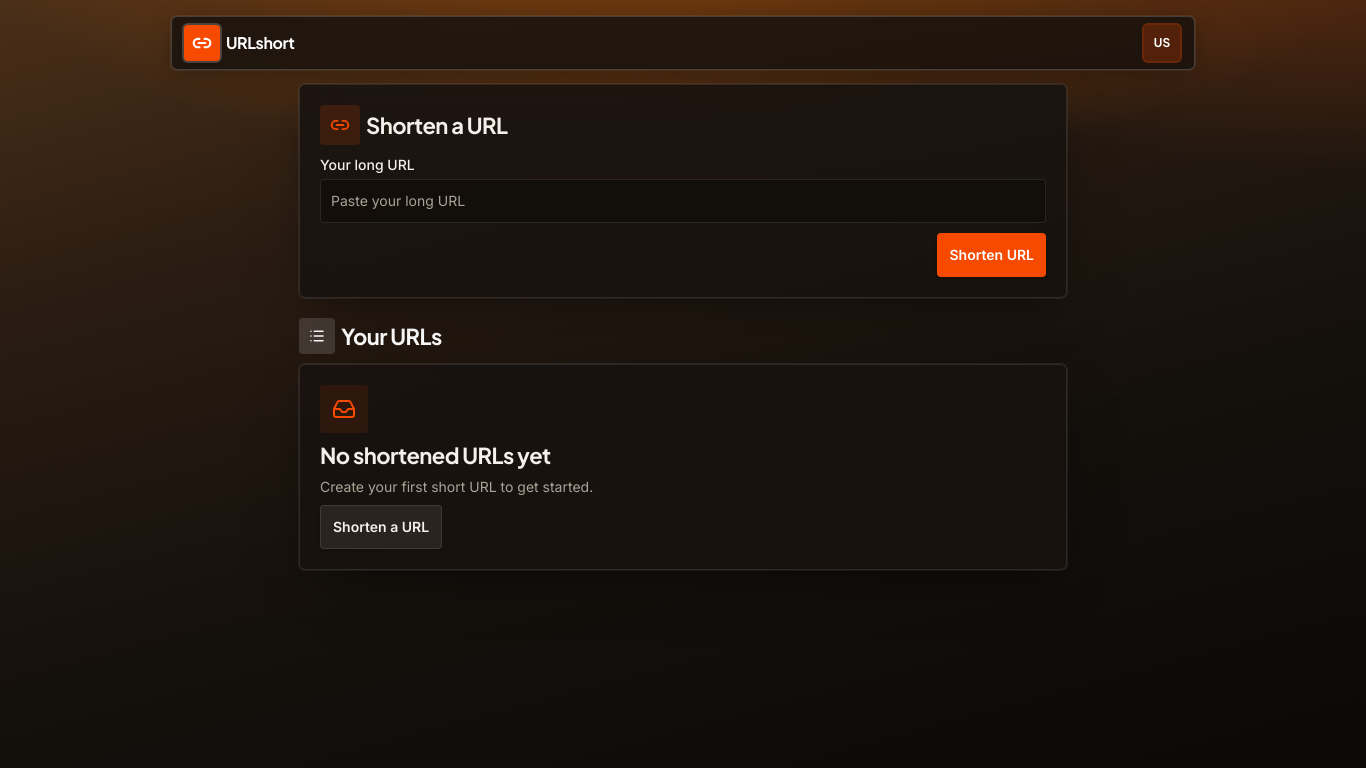
it: authenticated routes › creates and deletes a URL for the signed-in user
This screenshot has width=1366, height=768.
Expected: the text "No shortened URLs yet" is shown, [320,441,551,469]
Step 1. Type "https://example.com" into the field labelled "Your long URL" → (683, 201), box [320,179,1046,223]
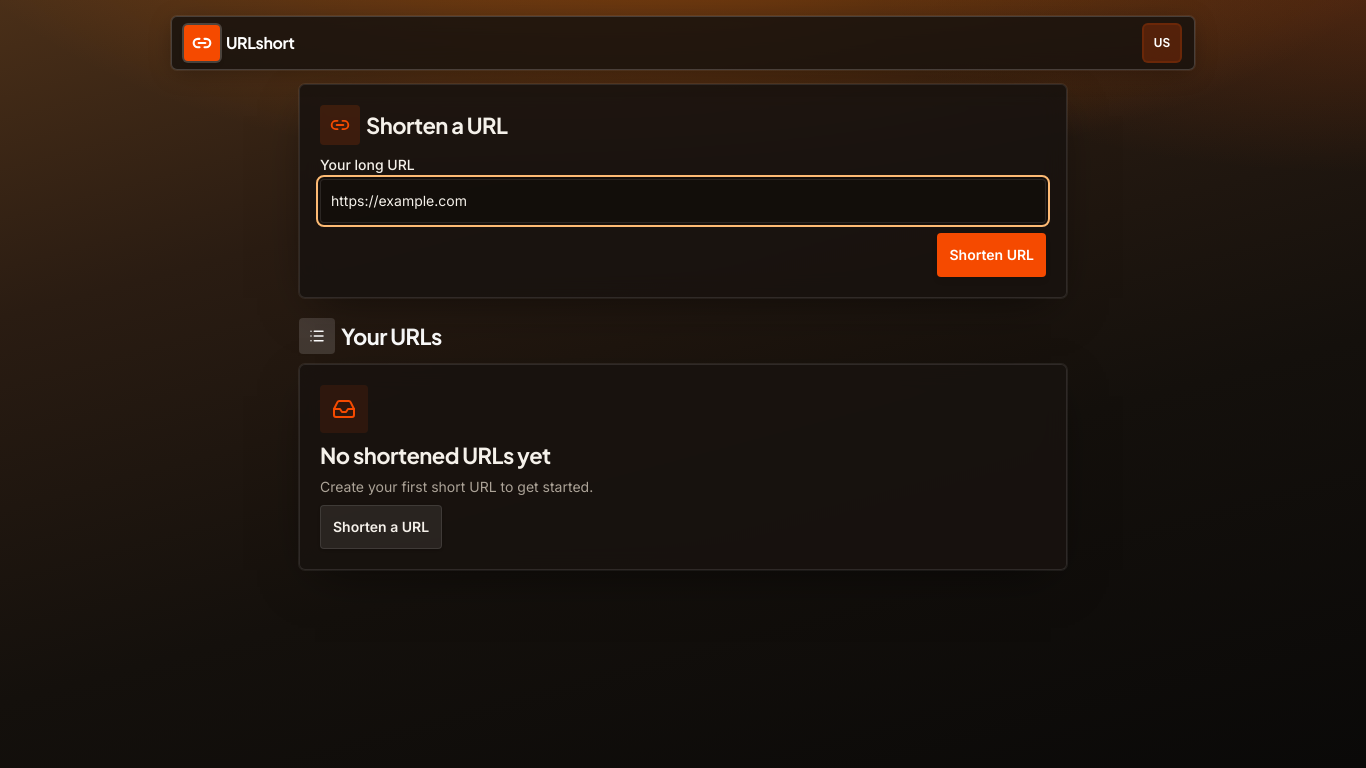
Step 2. Click the button "Shorten URL" → (992, 255), box [938,233,1046,277]
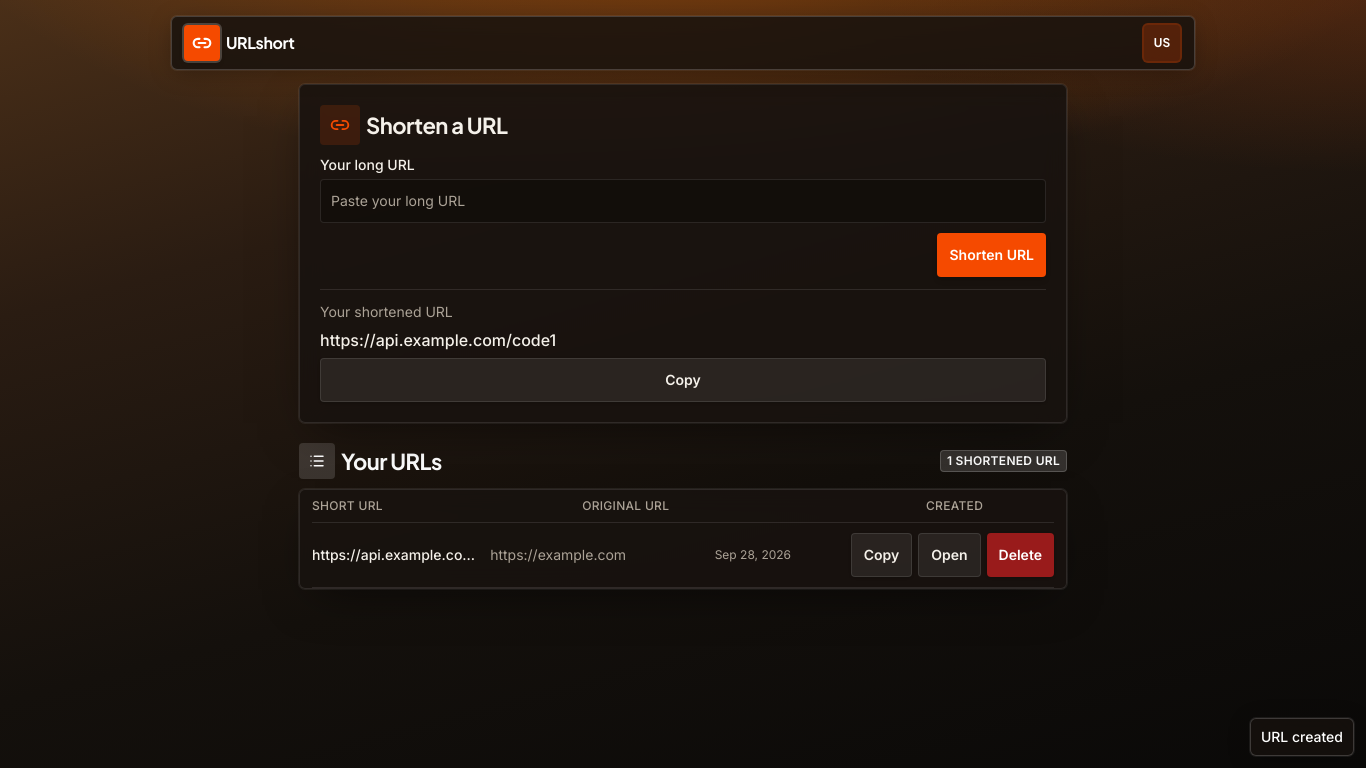
Step 3. Click the button with aria-label "Delete shortened URL https://api.example.com/code1" → (1020, 555), box [987,533,1054,577]
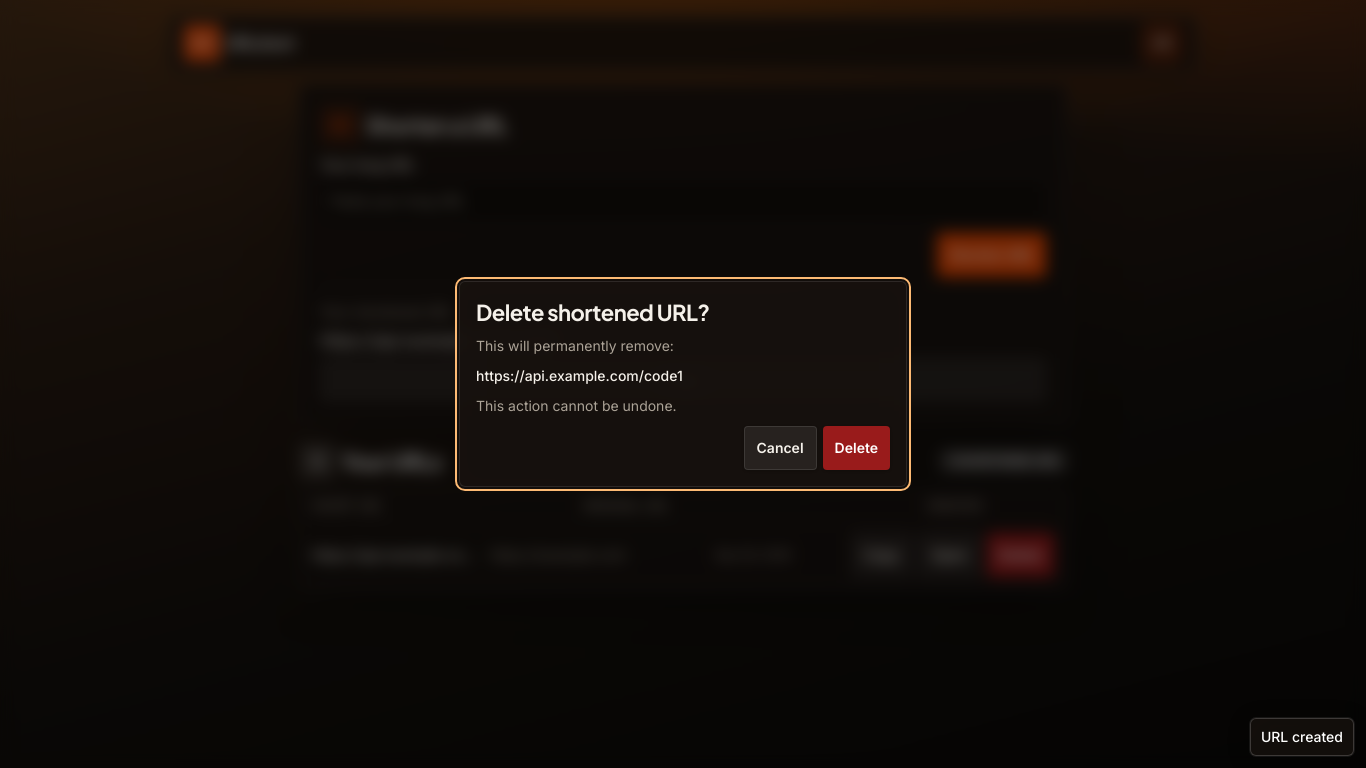
Step 4. Click the button "Delete" → (856, 448), box [823,426,890,470]
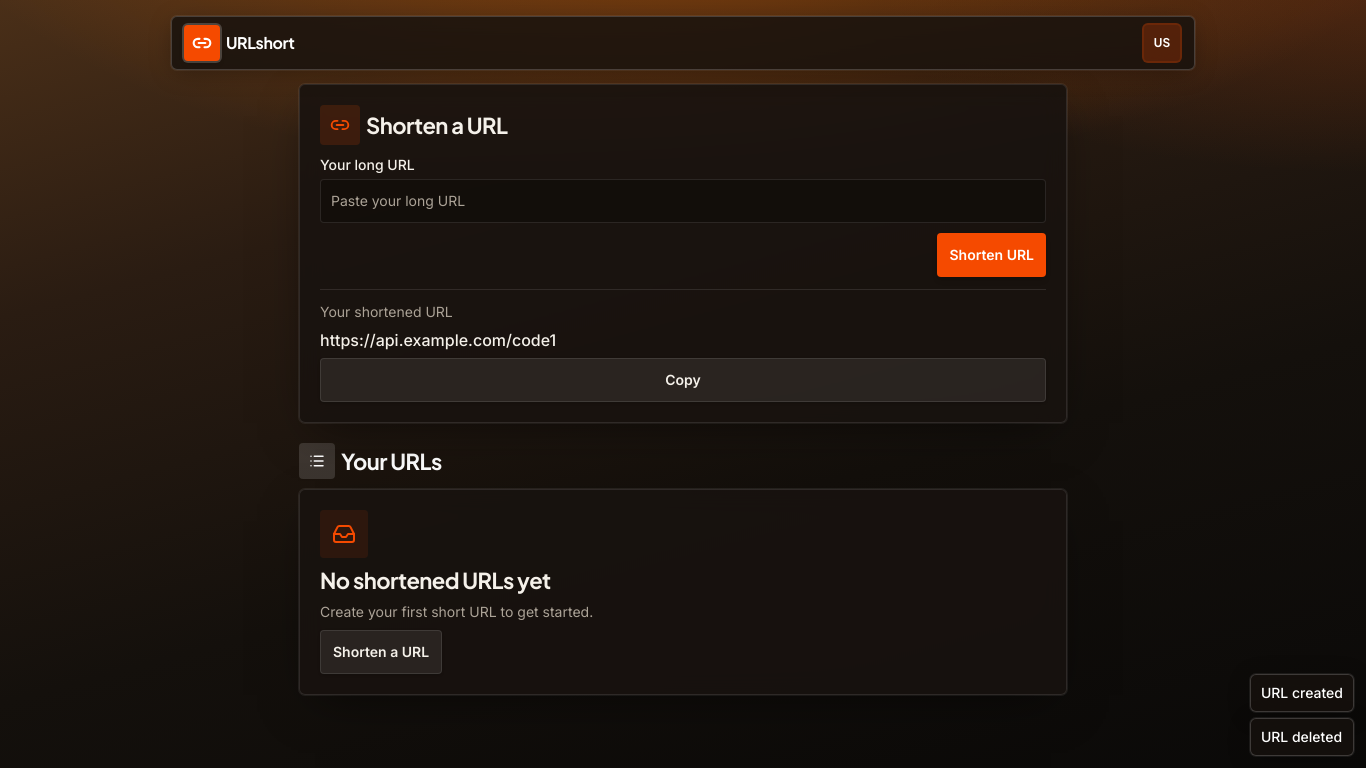
Now the text "No shortened URLs yet" is shown, box [320,566,551,594]
